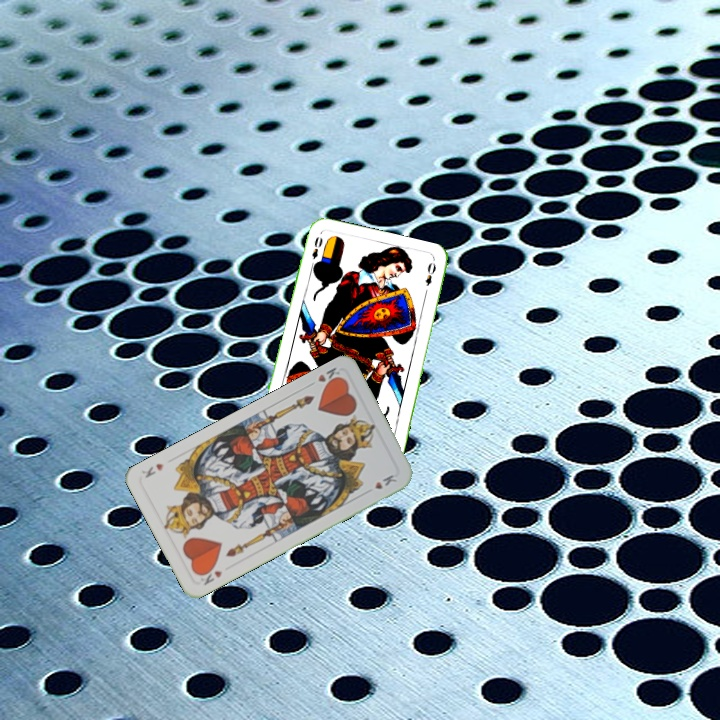EO: (306, 232, 325, 271)
HK: (304, 363, 345, 390), (195, 563, 225, 588)
